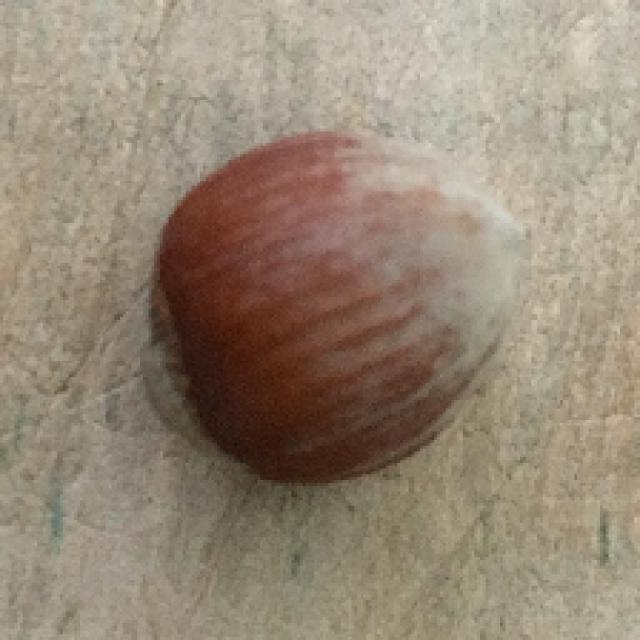qualityHazelnut: (132, 137, 533, 494)
